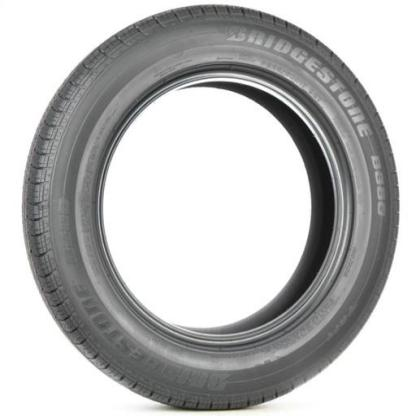Tire: (20, 4, 401, 409)
